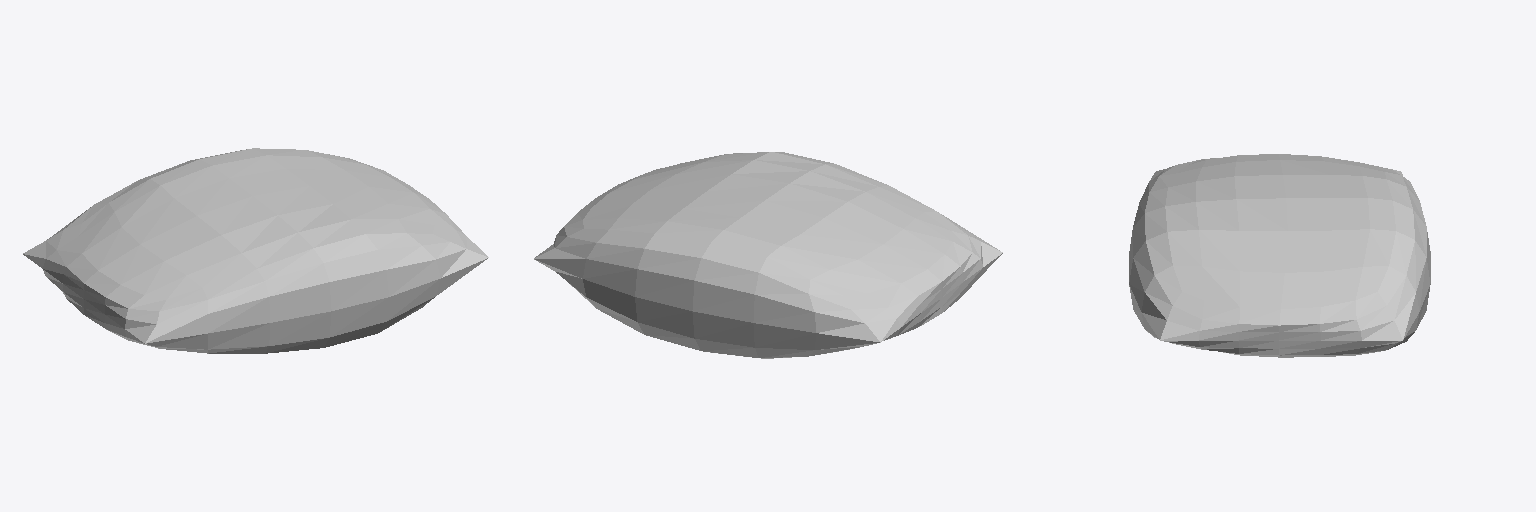
File: pillow1.obj
The picture shows the model from 3 angles: view 1: azimuth 30°, elevation 25°; view 2: azimuth 150°, elevation 25°; view 3: azimuth 270°, elevation 25°; orthographic projection.
Visible parts, largest first — view 1: pilow1; view 2: pilow1; view 3: pilow1.
Part boxes in pixels (x1,y1,x2,y2): pilow1: (23, 148, 488, 353); pilow1: (534, 152, 1002, 358); pilow1: (1129, 154, 1430, 357).
Size of the model in its own units: 1.06 by 0.3409 by 0.803.